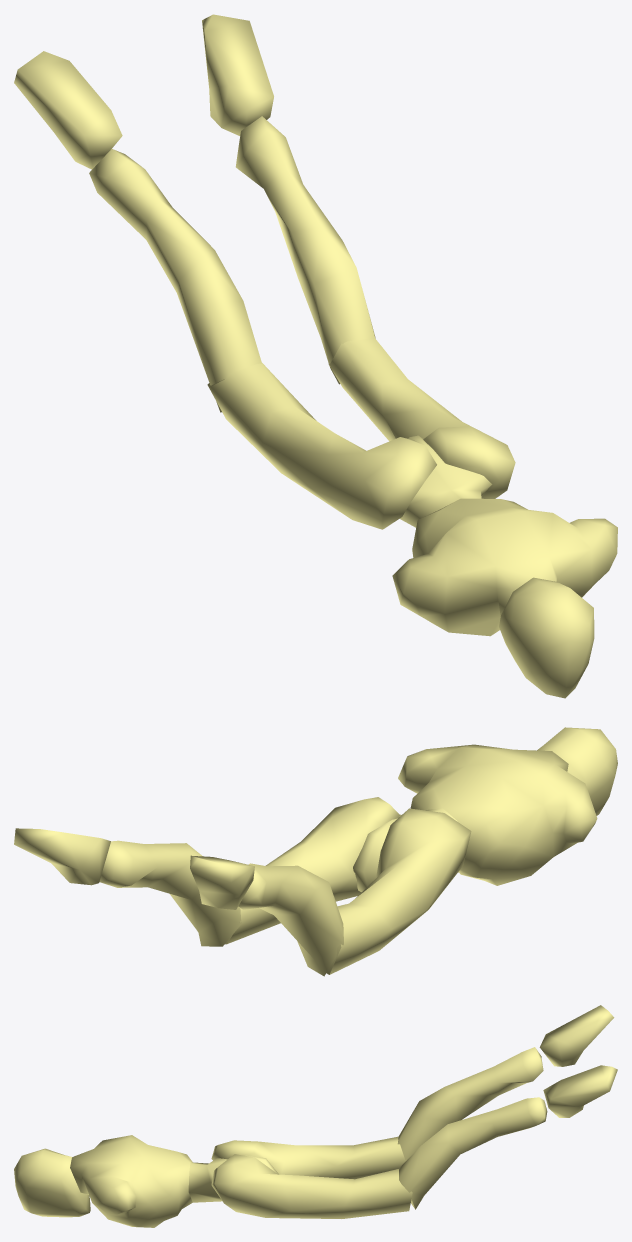
Rendered from filth75.obj.
3 views of the same model, one above another, from view 1: azimuth 30°, elevation 25°; view 2: azimuth 150°, elevation 25°; view 3: azimuth 270°, elevation 25° (orthographic). The views are drawn at different scales.
Parts seen in each view (by area): view 1: Melee_Husk; view 2: Melee_Husk; view 3: Melee_Husk.
Boxes of the visible parts, x1,y1,x2,y2 form: Melee_Husk: (14, 14, 617, 698); Melee_Husk: (14, 727, 617, 976); Melee_Husk: (14, 1005, 617, 1227).
Size of the model in its own units: 23.74 by 29.32 by 83.49.
